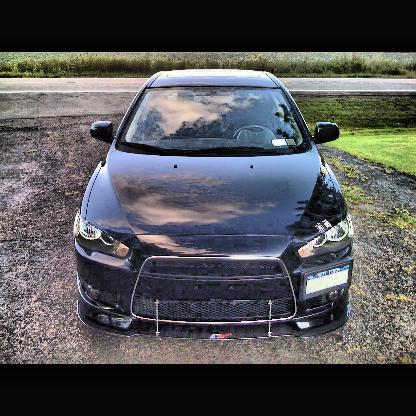Mitsubishi Lancer Sedan 2012: (74, 70, 354, 342)
